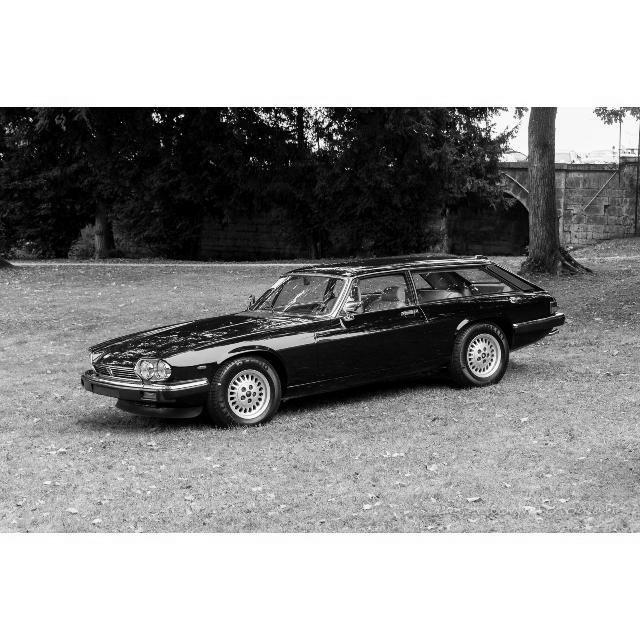doorouter-dent: (356, 296, 431, 361)
